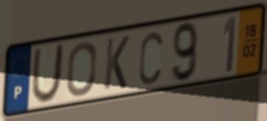1: (222, 14, 237, 75)
9: (171, 21, 199, 83)
C: (137, 30, 164, 87)
K: (102, 33, 131, 92)
O: (65, 40, 98, 99)
U: (29, 42, 66, 105)
